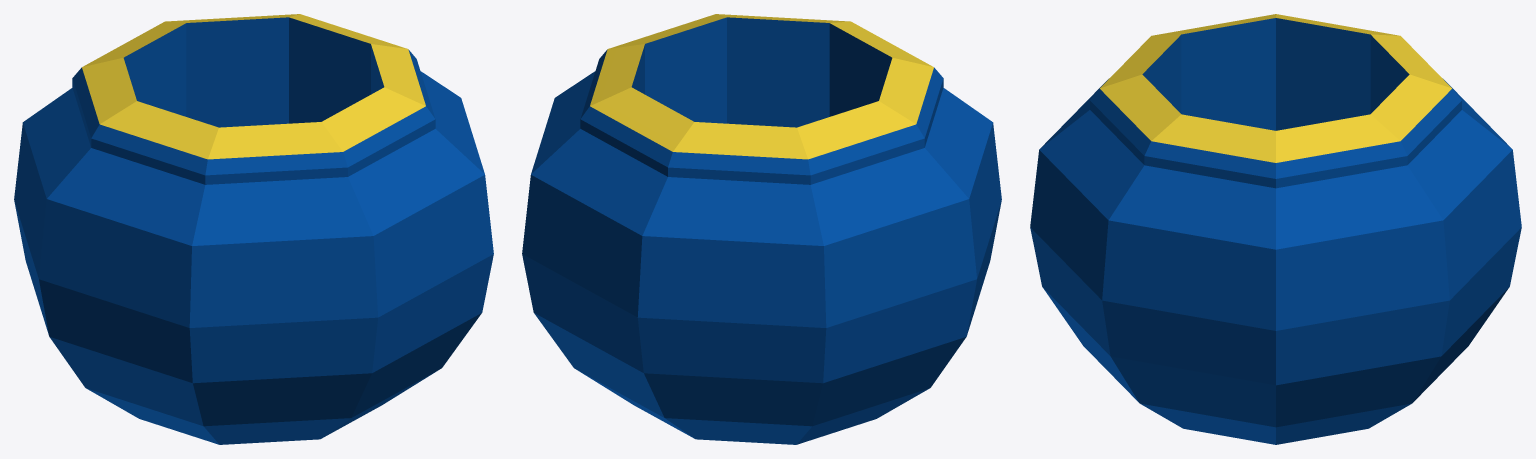
Rendered from Pot 1.fbx.
The picture shows the model from 3 angles, left to right: view 1: azimuth 30°, elevation 25°; view 2: azimuth 150°, elevation 25°; view 3: azimuth 270°, elevation 25°; orthographic projection.
Visible parts, largest first — view 1: Pot 1; view 2: Pot 1; view 3: Pot 1.
Boxes of the visible parts, box(x1,y1,x2,y2) form: Pot 1: box(14, 14, 493, 444); Pot 1: box(522, 14, 1001, 444); Pot 1: box(1030, 14, 1521, 444).
Bounding box in the file's own units: 64.65 × 45.72 × 64.65.
